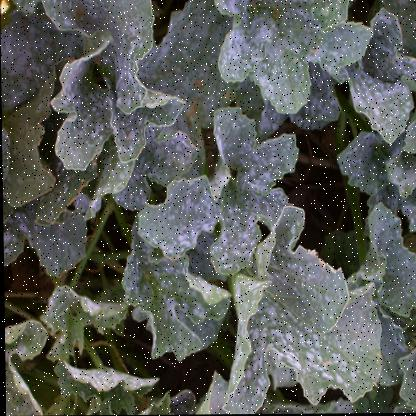PowderyMildew: (155, 130, 296, 256), (219, 0, 368, 112), (55, 0, 153, 161), (244, 275, 373, 382), (121, 290, 232, 358)
